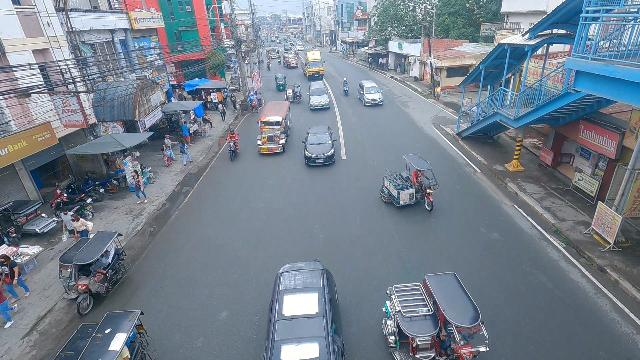car: (300, 124, 337, 168), (305, 80, 330, 111), (357, 80, 385, 107), (283, 41, 292, 51)
jeepney: (255, 99, 291, 156), (282, 52, 299, 69), (265, 46, 279, 59)
motorcycle: (225, 127, 240, 163), (340, 77, 350, 98), (266, 60, 271, 71), (277, 56, 282, 65)
truck: (299, 51, 326, 81)
